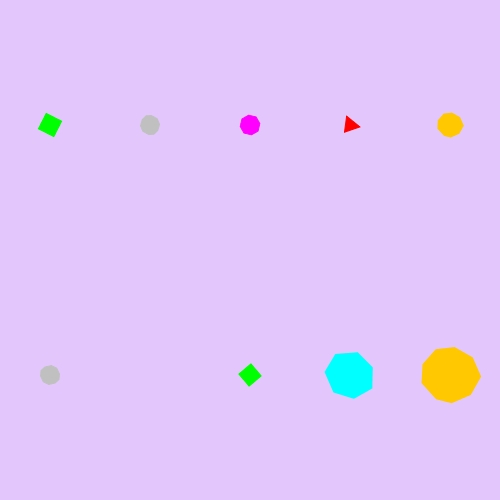decagon: (135, 111, 165, 139), (35, 361, 65, 389)
heptagon: (322, 348, 378, 402)
nonagon: (417, 344, 483, 407), (433, 109, 467, 142)
octagon: (235, 110, 265, 140)
quadrilateral: (33, 108, 67, 142), (234, 359, 266, 391)
triangle: (338, 112, 363, 138)
